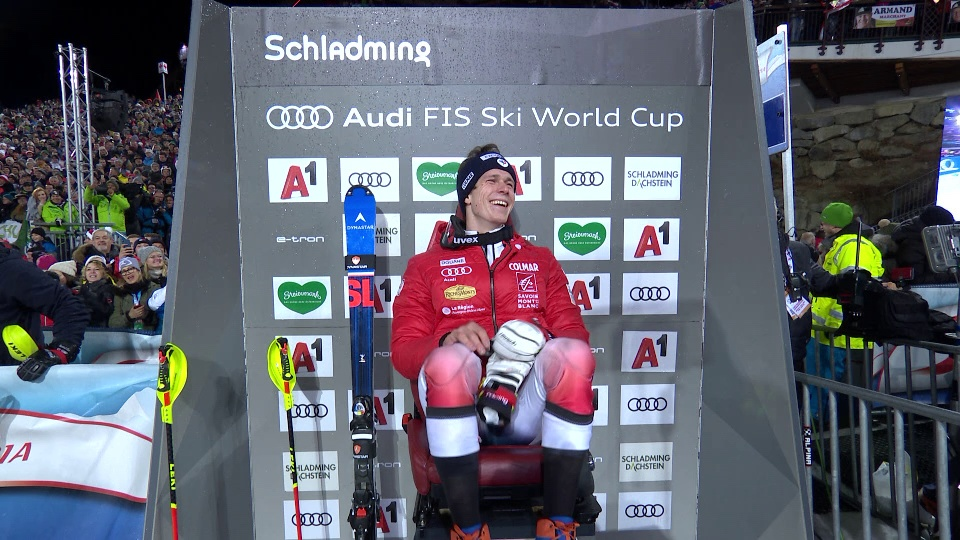a1: (278, 161, 322, 202), (635, 222, 674, 261), (630, 334, 671, 371), (567, 276, 606, 313), (292, 338, 327, 376), (373, 501, 405, 538), (504, 163, 535, 199), (370, 394, 398, 427)
audi: (266, 104, 334, 134), (346, 169, 394, 192), (291, 510, 334, 535), (628, 395, 670, 416), (630, 285, 672, 305), (563, 170, 604, 190), (291, 402, 329, 423), (626, 504, 666, 522), (441, 259, 474, 280)
etron: (275, 232, 327, 247)
schladming: (626, 160, 681, 193), (617, 449, 672, 482), (277, 457, 332, 490)
steiermark: (274, 280, 332, 317), (558, 220, 610, 255), (417, 161, 466, 197)
